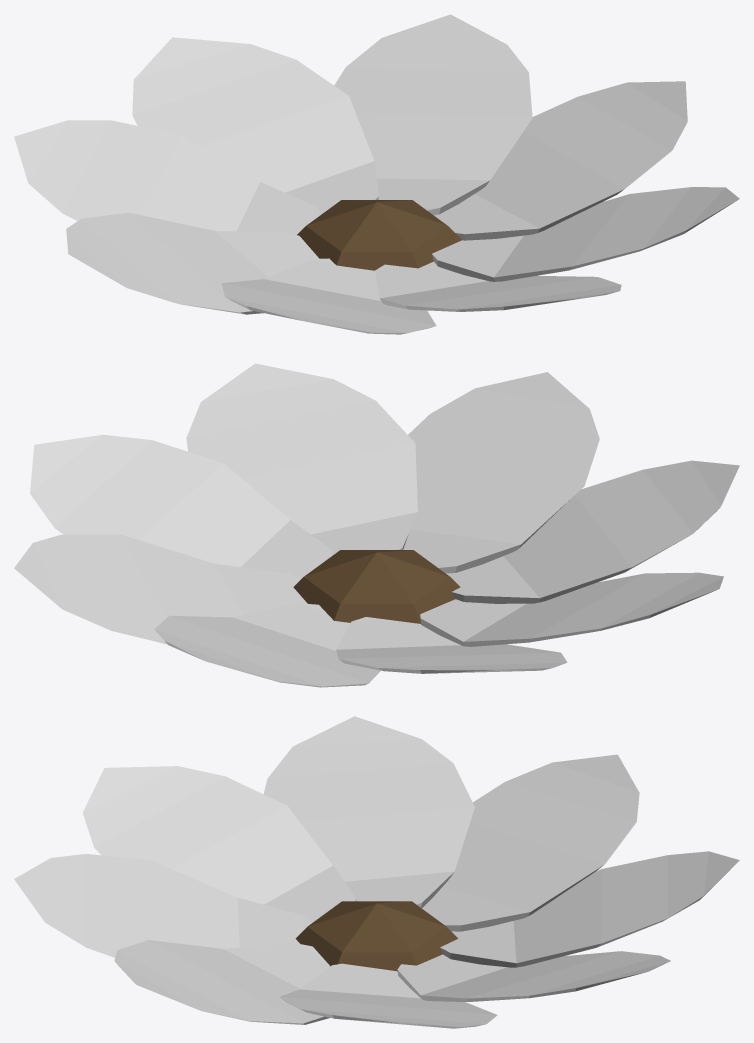
File: Flower02.glb
3 views of the same model, one above another, from view 1: azimuth 30°, elevation 25°; view 2: azimuth 150°, elevation 25°; view 3: azimuth 270°, elevation 25° (orthographic). The views are drawn at different scales.
Parts seen in each view (by area): view 1: Flower02; view 2: Flower02; view 3: Flower02.
Part boxes in pixels (x1,y1,x2,y2): Flower02: (14, 14, 739, 334); Flower02: (14, 363, 739, 687); Flower02: (14, 716, 739, 1028).
Bounding box in the file's own units: 3.66 × 0.4616 × 3.66.
